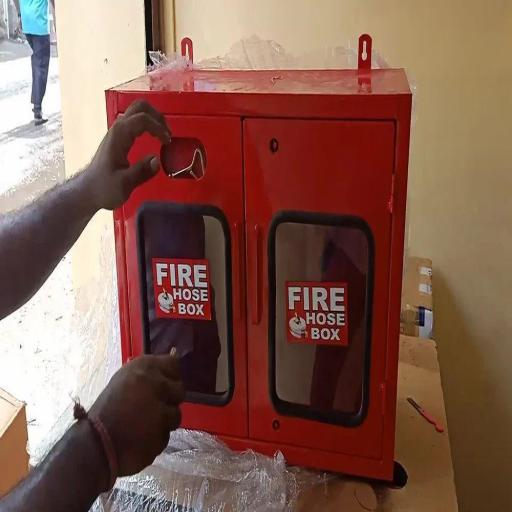fire_hose: (102, 44, 418, 488)
